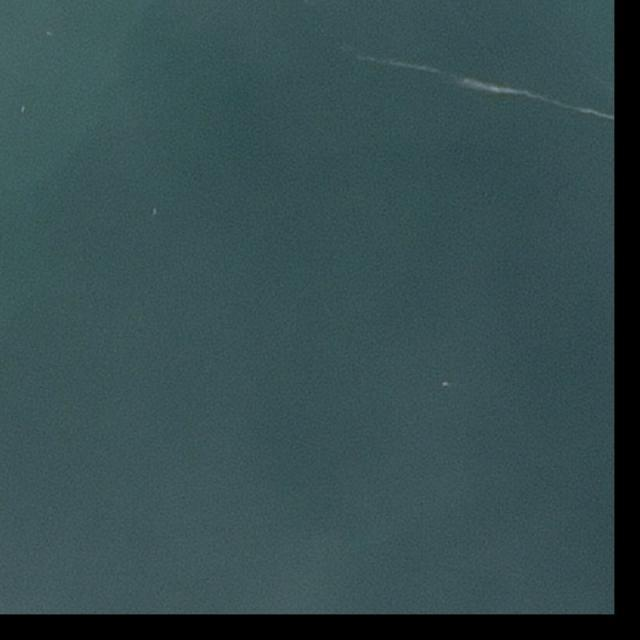ship: (17, 103, 30, 116), (441, 376, 451, 389), (150, 205, 158, 220), (43, 30, 52, 41)
